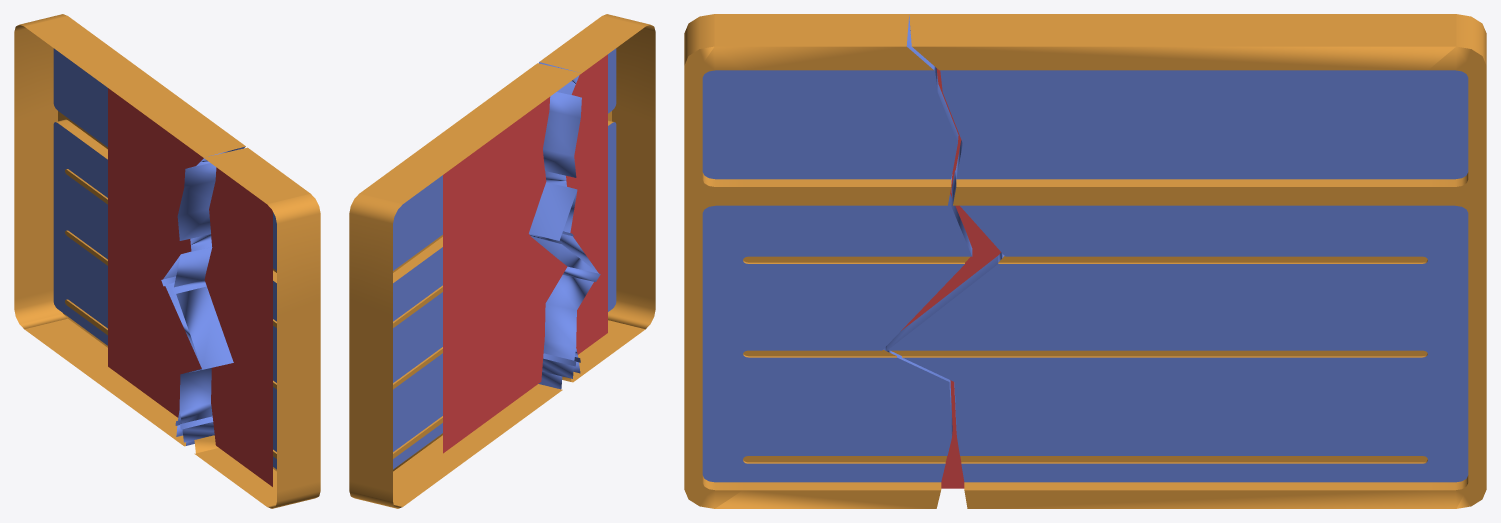
File: SM_Wall_Cracked.fbx
3 renders of one model, left to right at view 1: azimuth 30°, elevation 25°; view 2: azimuth 150°, elevation 25°; view 3: azimuth 270°, elevation 25°, orthographic. The views are drawn at different scales.
Visible parts, largest first — view 1: SM_Wall_Cracked; view 2: SM_Wall_Cracked; view 3: SM_Wall_Cracked.
Part boxes in pixels (x1,y1,x2,y2): SM_Wall_Cracked: (14, 14, 320, 508); SM_Wall_Cracked: (349, 14, 655, 508); SM_Wall_Cracked: (684, 14, 1486, 508).
Bounding box in the file's own units: 174 × 923 × 1451.
